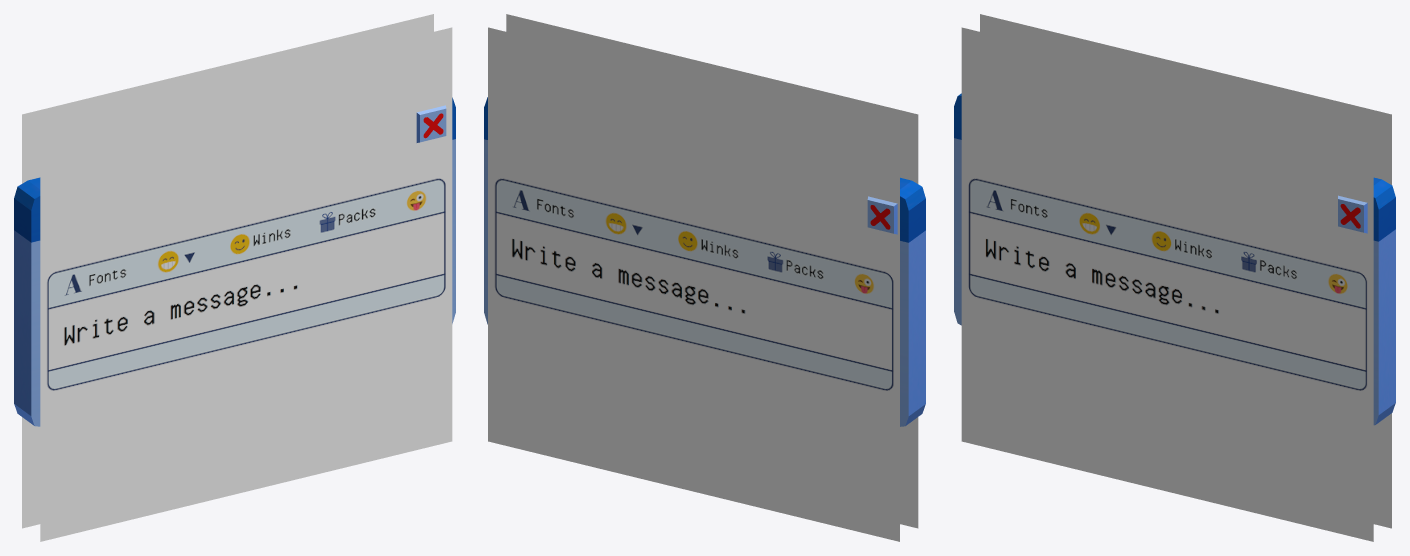
File: SM_MessageWall.fbx
3 views of the same model, side by side, from view 1: azimuth 30°, elevation 25°; view 2: azimuth 150°, elevation 25°; view 3: azimuth 330°, elevation 25° (orthographic).
Parts seen in each view (by area): view 1: SM_MessageWall; view 2: SM_MessageWall; view 3: SM_MessageWall.
Boxes of the visible parts, x1,y1,x2,y2 form: SM_MessageWall: (14, 14, 455, 541); SM_MessageWall: (484, 14, 925, 541); SM_MessageWall: (954, 14, 1395, 541).
Size of the model in its own units: 83.64 by 77.92 by 7.78.
